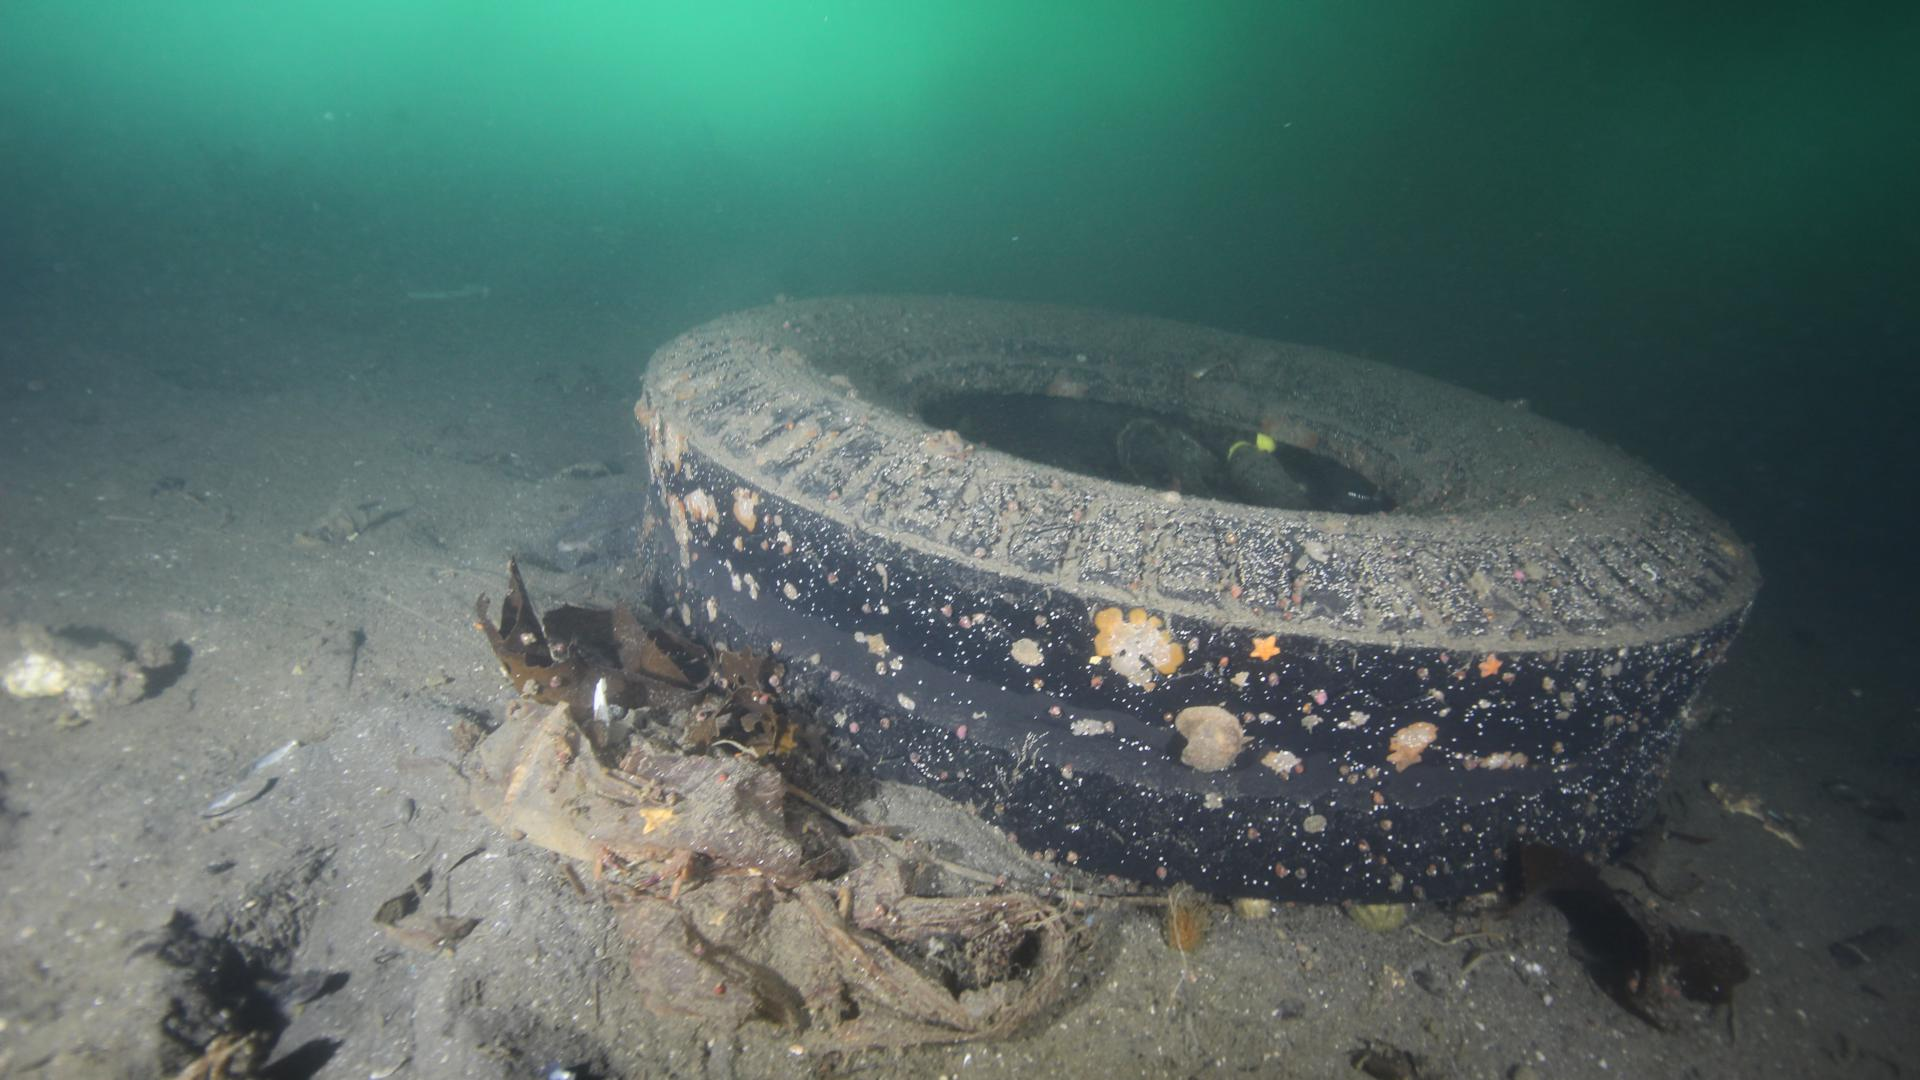tire: (633, 290, 1758, 911)
